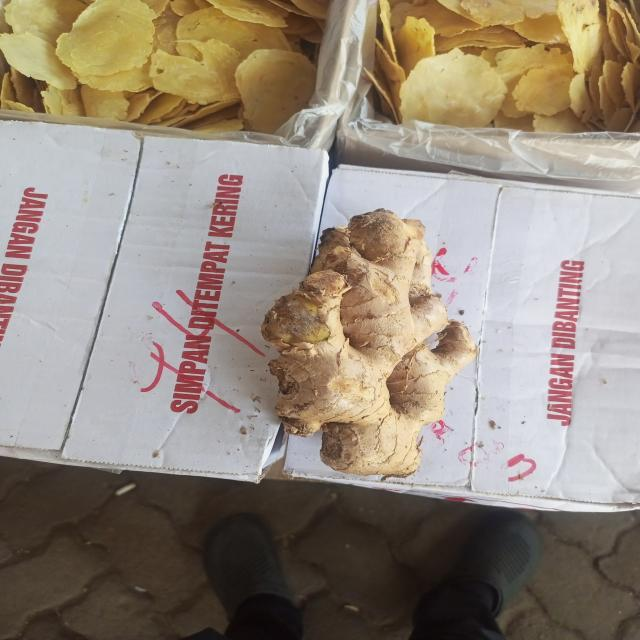ginger: (260, 212, 476, 476)
